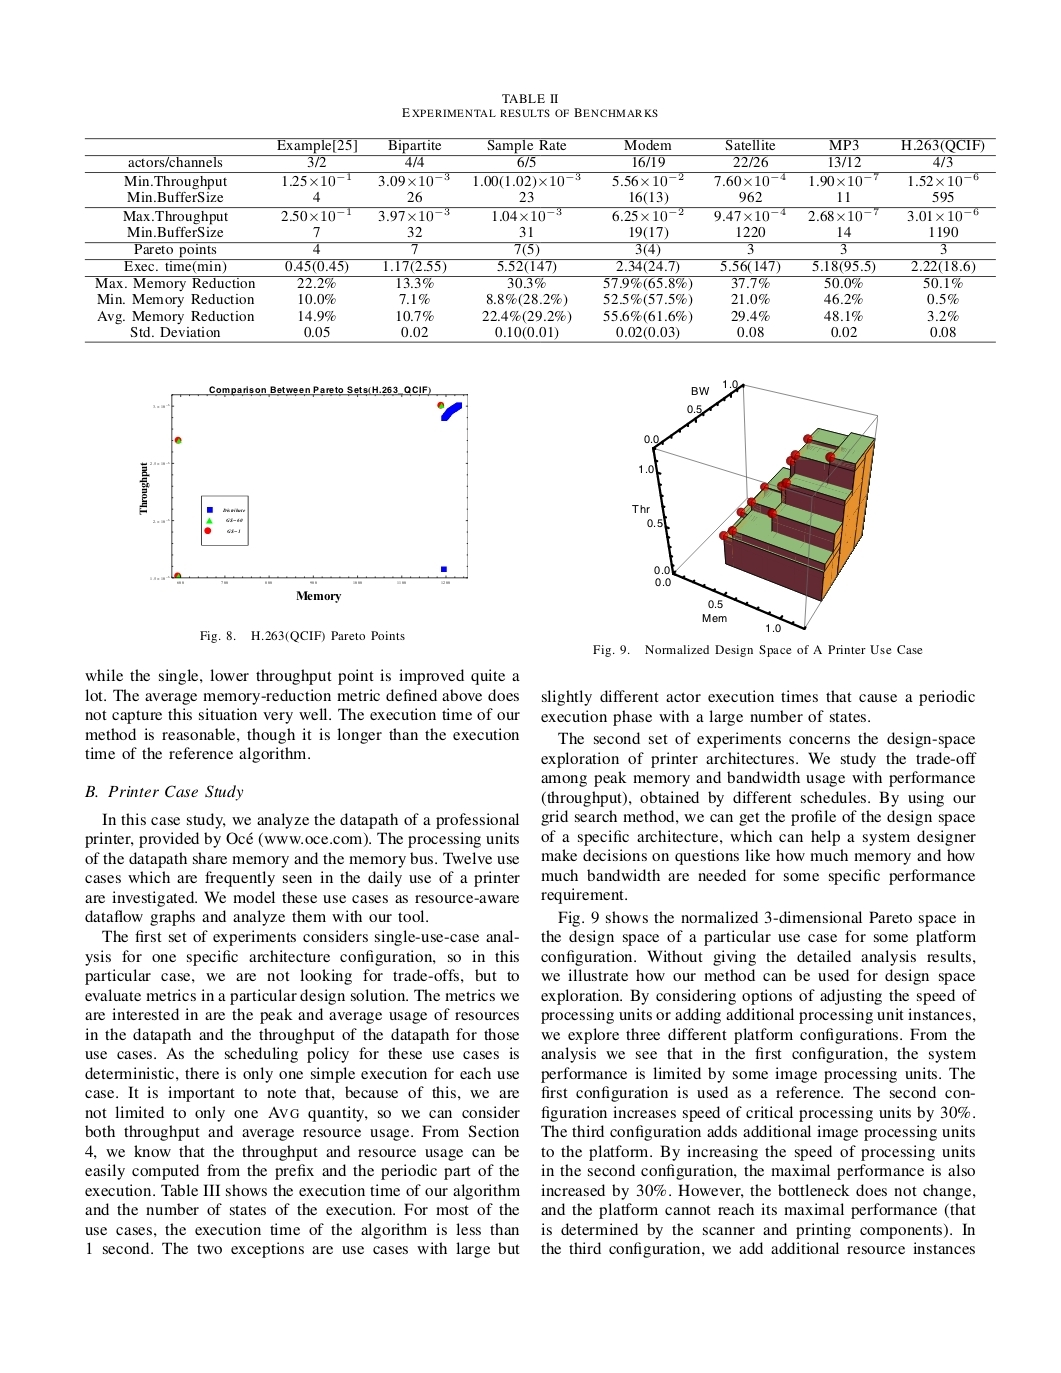Table: (84, 138, 995, 342)
figure: (139, 384, 467, 584), (632, 379, 877, 633)
